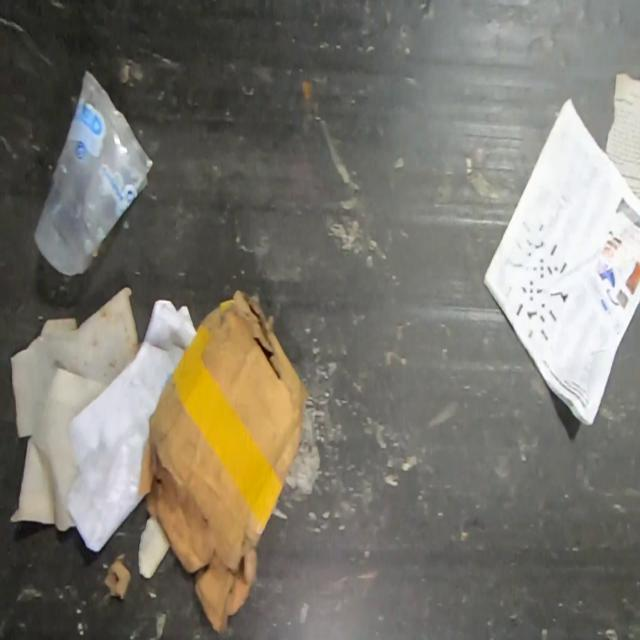cardboard: (136, 289, 312, 637), (103, 558, 133, 602)
rigid_plastic: (31, 68, 155, 279)
